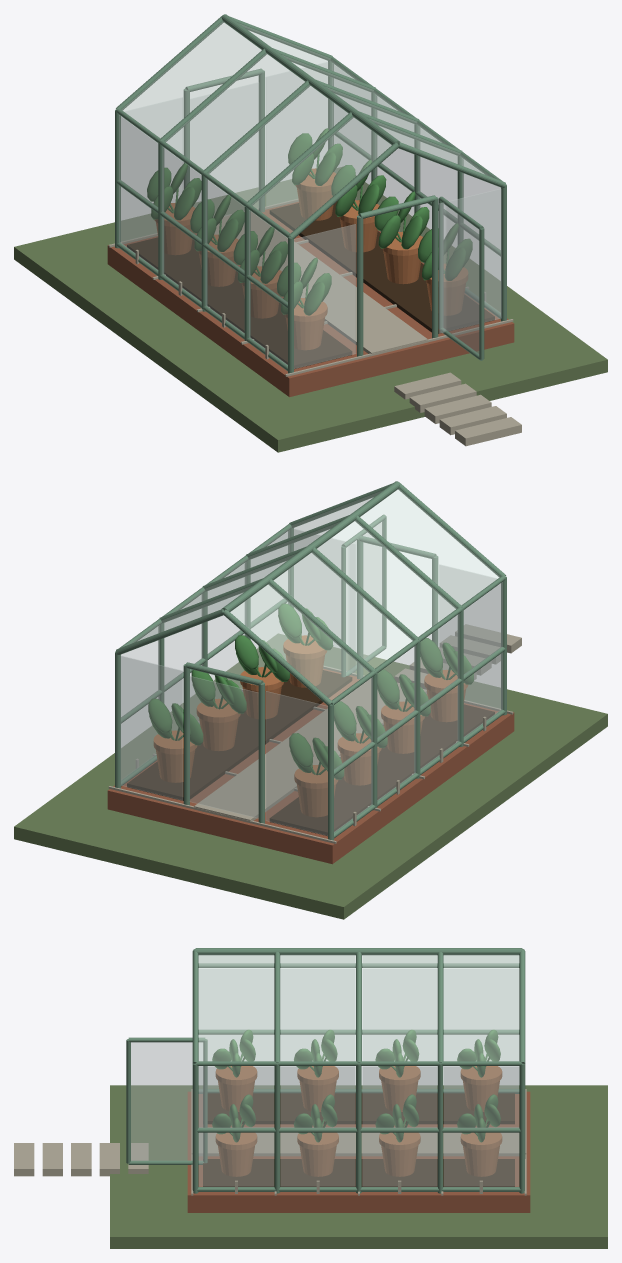
File: result.glb
3 renders of one model, top to bottom at view 1: azimuth 30°, elevation 25°; view 2: azimuth 150°, elevation 25°; view 3: azimuth 270°, elevation 25°, orthographic. The views are drawn at different scales.
Parts seen in each view (by area): view 1: Garden diorama.003, Brick foundation.003, End glass.012, End glass.013, Roof glass.024, Roof glass.025, Roof glass.026, Roof glass.027, Back door glazing.003, Planting soil bed.007, Planting soil bed.006, Central stone path.003 (+56 smaller); view 2: Garden diorama.003, Brick foundation.003, Back door glazing.003, End glass.015, End glass.014, Roof glass.026, Roof glass.027, Roof glass.024, Roof glass.025, Planting soil bed.007, Central stone path.003, End glass.012 (+60 smaller); view 3: Garden diorama.003, Brick foundation.003, Side glass.028, Side glass.029, Side glass.030, Side glass.031, Roof glass.028, Roof glass.031, Roof glass.029, Roof glass.030, Open glass door.003, Side glass.027 (+51 smaller).
Part boxes in pixels (x1,y1,x2,y2): Garden diorama.003: (14, 167, 607, 452); Brick foundation.003: (107, 201, 514, 397); End glass.012: (294, 224, 355, 368); End glass.013: (439, 189, 501, 333); Roof glass.024: (252, 117, 391, 233); Roof glass.025: (208, 85, 348, 201); Roof glass.026: (165, 53, 304, 169); Roof glass.027: (122, 21, 261, 137); Back door glazing.003: (190, 82, 258, 217); Planting soil bed.007: (269, 201, 494, 333); Planting soil bed.006: (127, 237, 352, 369); Central stone path.003: (214, 211, 427, 354); Garden diorama.003: (14, 633, 607, 919); Brick foundation.003: (107, 668, 514, 864); Back door glazing.003: (189, 676, 258, 818); End glass.015: (120, 656, 182, 800); End glass.014: (266, 691, 327, 835); Roof glass.026: (273, 552, 413, 668); Roof glass.027: (230, 584, 369, 700); Roof glass.024: (360, 488, 499, 604); Roof glass.025: (317, 520, 456, 636); Planting soil bed.007: (127, 670, 352, 800); Central stone path.003: (194, 678, 426, 821); End glass.012: (439, 564, 500, 708); Garden diorama.003: (110, 1085, 607, 1248); Brick foundation.003: (187, 1091, 530, 1212); Side glass.028: (199, 1066, 273, 1186); Side glass.029: (281, 1066, 355, 1186); Side glass.030: (362, 1066, 436, 1186); Side glass.031: (444, 1066, 518, 1186); Roof glass.028: (199, 954, 273, 1060); Roof glass.031: (444, 954, 518, 1060); Roof glass.029: (281, 954, 355, 1060); Roof glass.030: (362, 954, 436, 1060); Open glass door.003: (131, 1042, 202, 1160); Side glass.027: (444, 968, 518, 1088).
Size of what is drawn, in the model's own units: 4.4 by 3.04 by 7.27.
